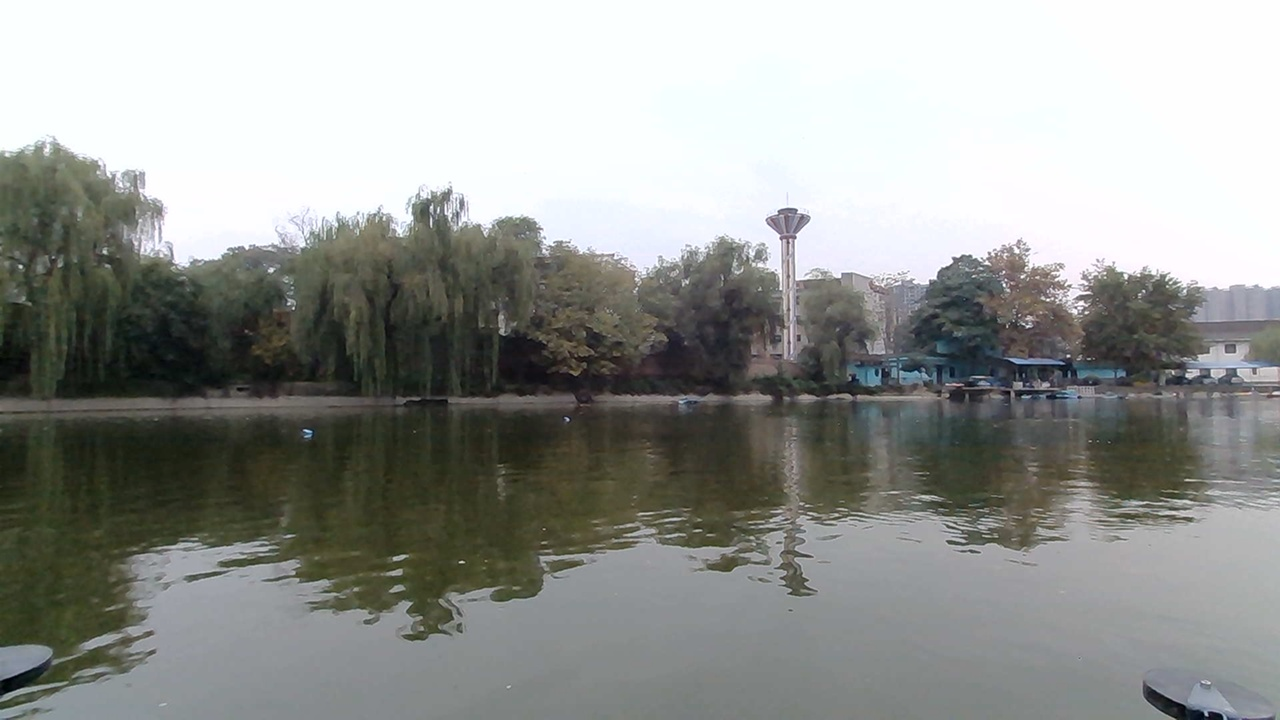bottle: (294, 425, 325, 443)
